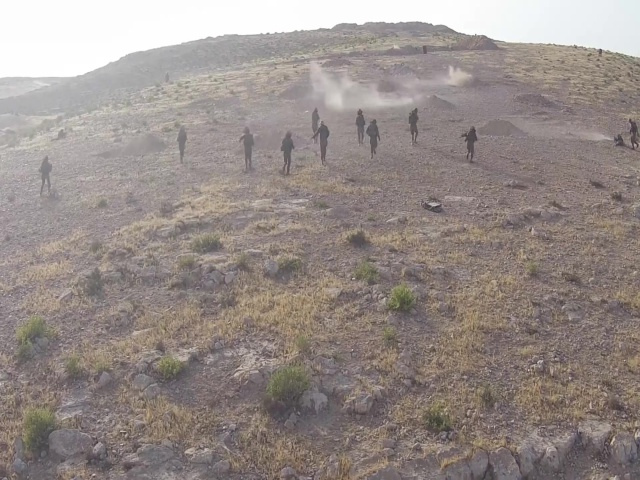person: (238, 125, 255, 173), (313, 120, 330, 167), (36, 153, 53, 198), (279, 131, 293, 177), (462, 124, 478, 163), (405, 107, 421, 144), (365, 118, 379, 158), (353, 109, 367, 149), (175, 125, 188, 162), (309, 106, 320, 143), (609, 130, 625, 150)
